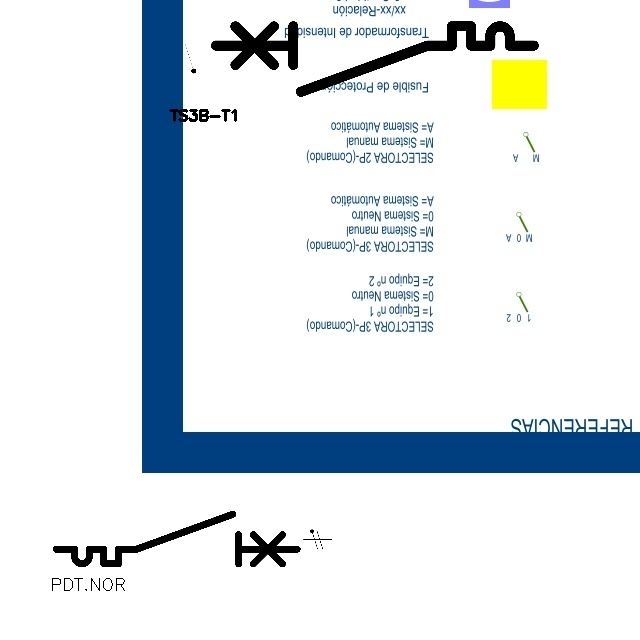interruptor_termomagnetico: (207, 18, 541, 99), (50, 508, 303, 570)
